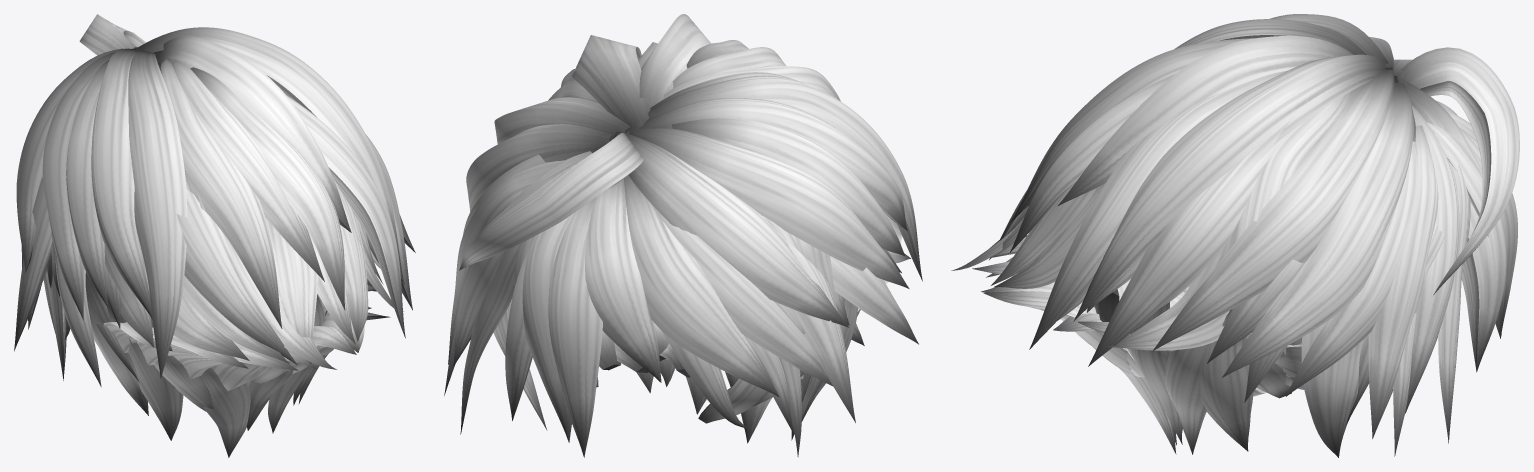
File: hair2.glb
The picture shows the model from 3 angles, left to right: view 1: azimuth 30°, elevation 25°; view 2: azimuth 150°, elevation 25°; view 3: azimuth 270°, elevation 25°; orthographic projection. The views are drawn at different scales.
Visible parts, largest first — view 1: Hair; view 2: Hair; view 3: Hair.
Boxes of the visible parts, x1,y1,x2,y2 form: Hair: (14,14,415,457); Hair: (444,14,922,457); Hair: (951,14,1519,457).
Size of the model in its own units: 0.2573 by 0.2622 by 0.3179.
2 materials, 2 textured.
